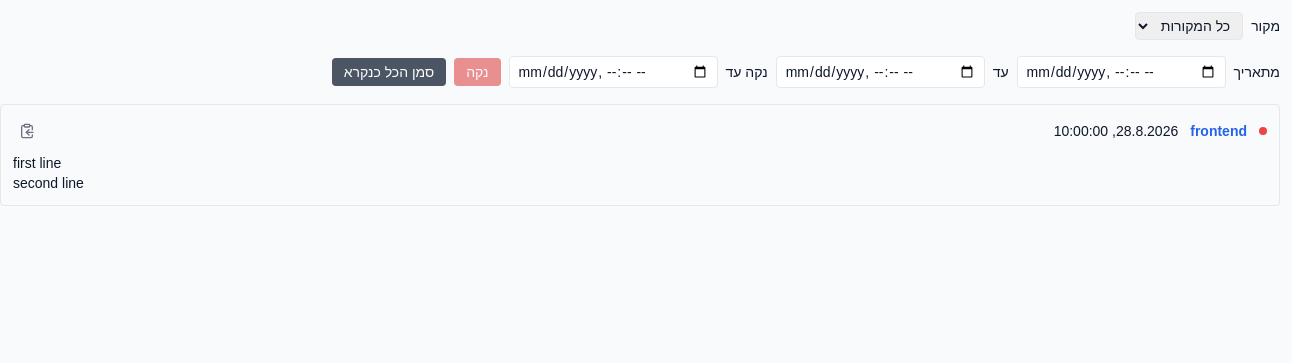
Test: renders multiline messages and marks an unread error read when opened
Expected: the element with test id "admin-error-unread-error-2" is shown, [1259, 127, 1267, 135]
Click the text "first line second line" at (48, 173), box [13, 155, 84, 191]
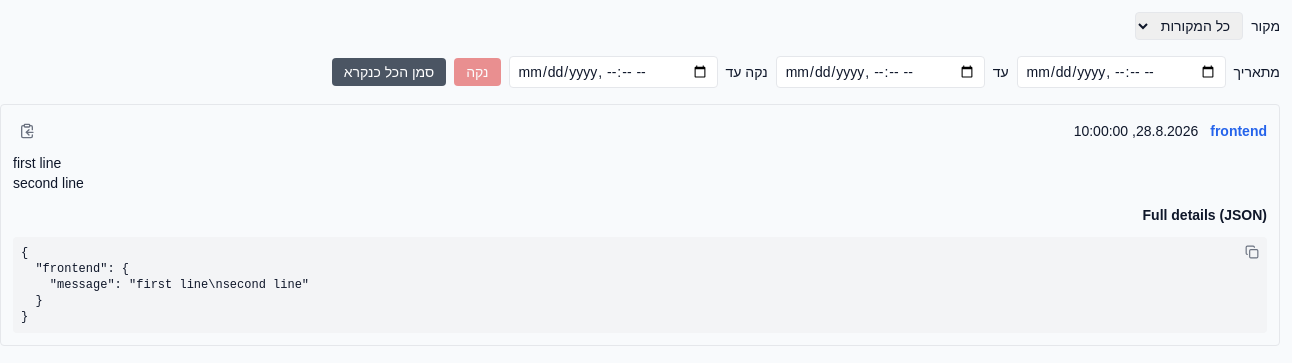
Now the element with test id "admin-error-unread-error-2" is gone
